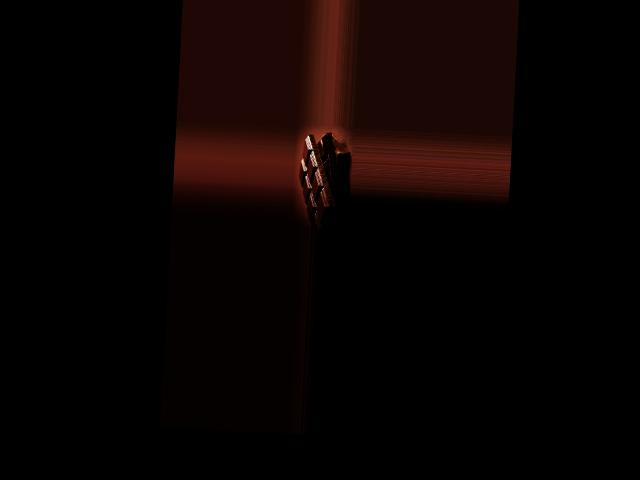chocolate: (297, 131, 344, 227)
